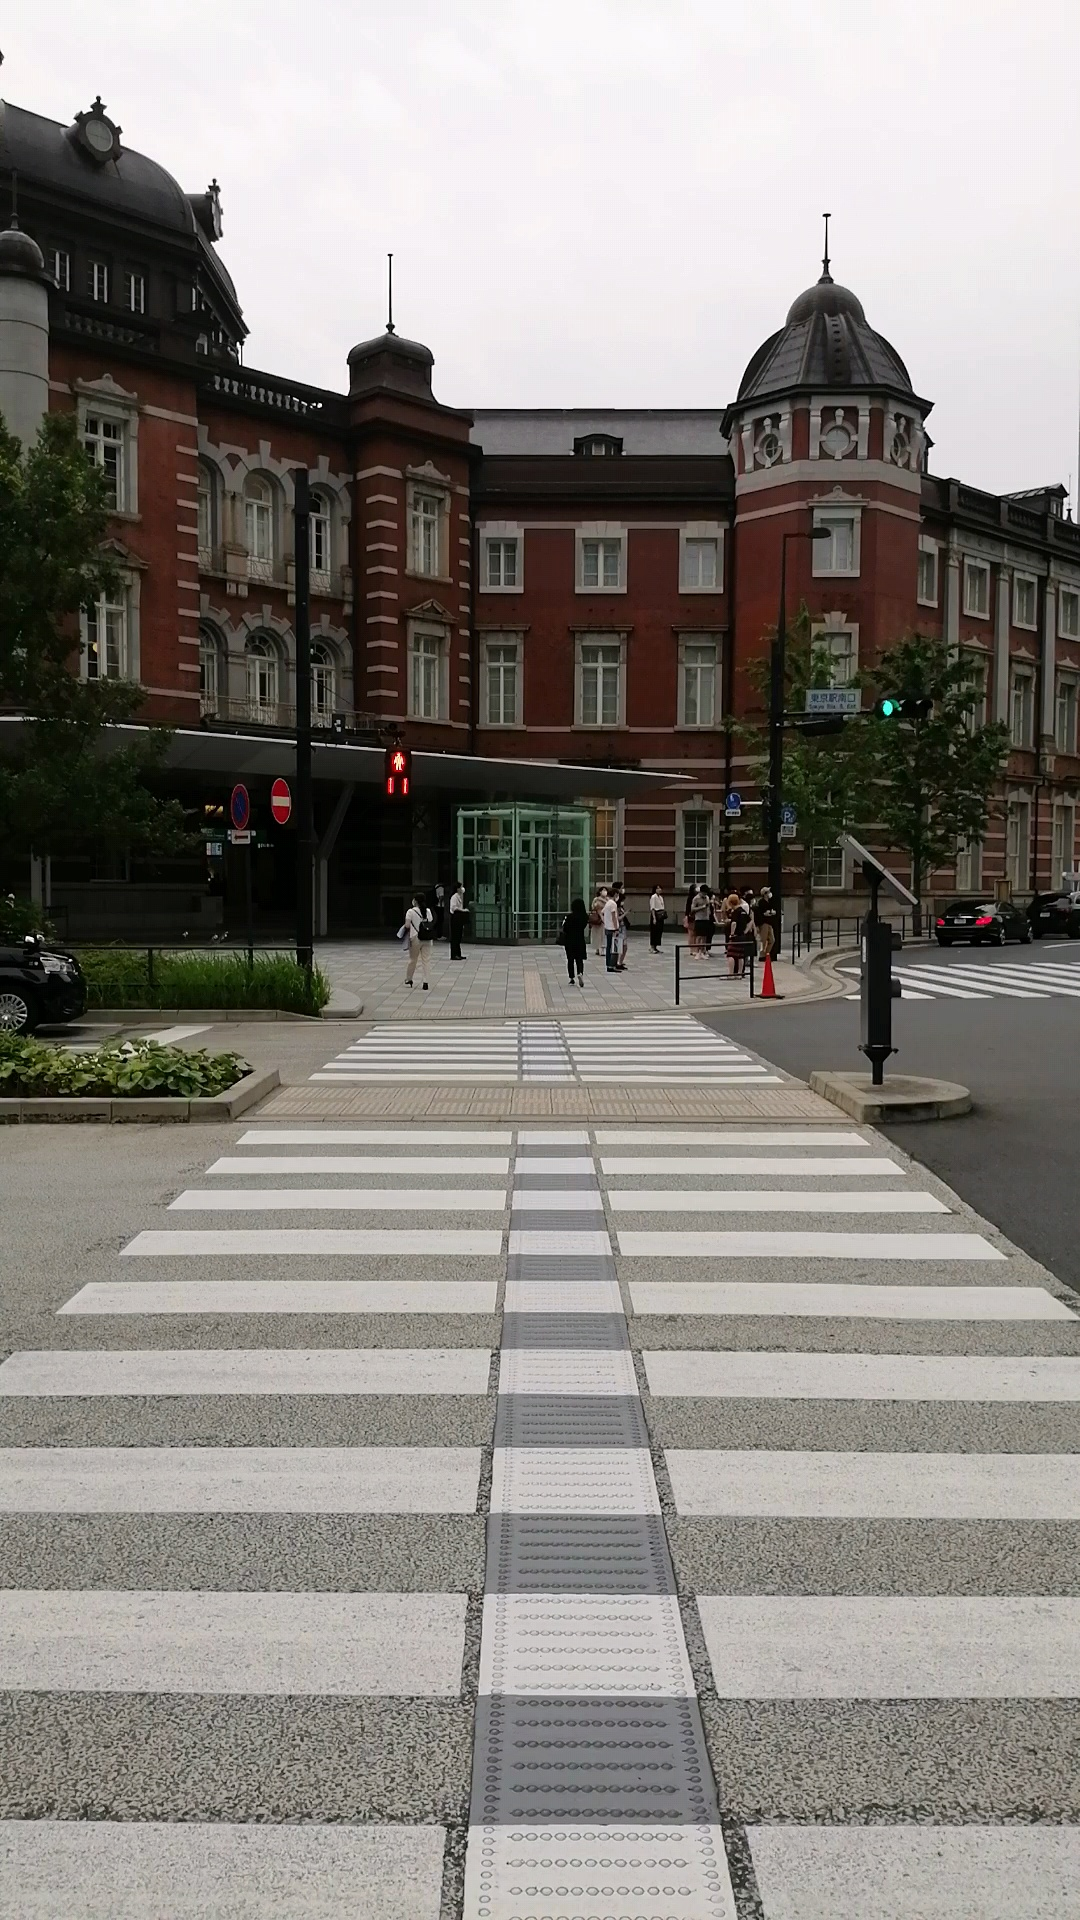red: (382, 742, 413, 802)
